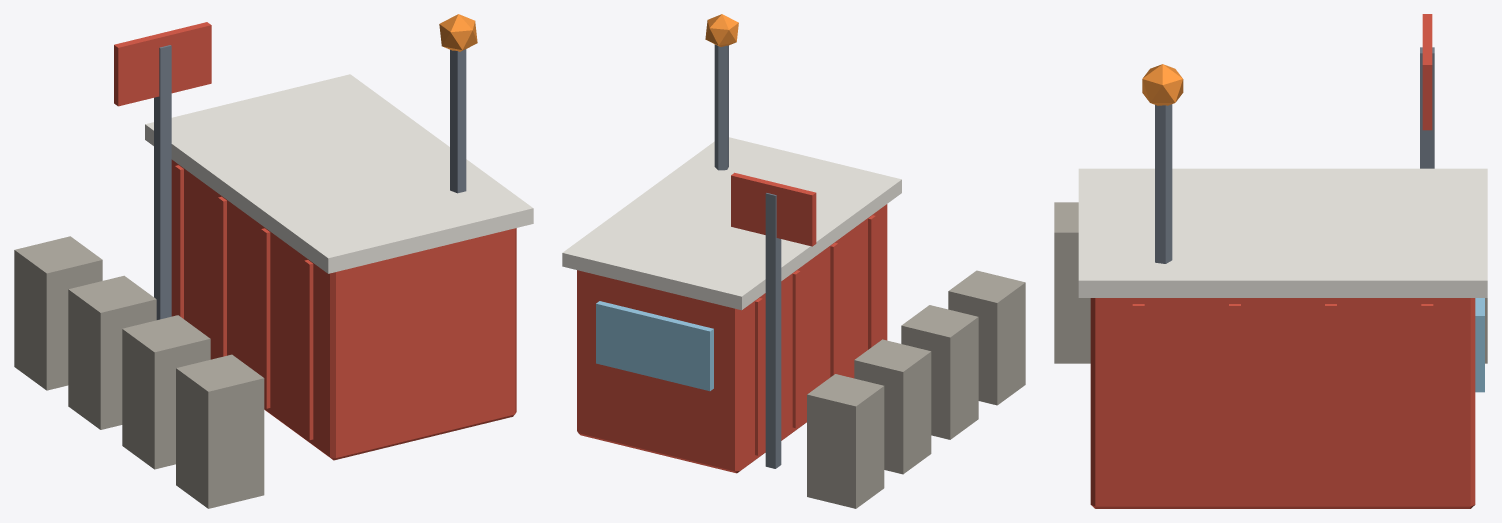
Rendered from checkpoint_port.glb.
3 renders of one model, left to right at view 1: azimuth 30°, elevation 25°; view 2: azimuth 150°, elevation 25°; view 3: azimuth 270°, elevation 25°, orthographic. The views are drawn at different scales.
Parts seen in each view (by area): view 1: checkpoint_port; view 2: checkpoint_port; view 3: checkpoint_port.
Boxes of the visible parts, x1,y1,x2,y2 form: checkpoint_port: [14, 14, 533, 508]; checkpoint_port: [562, 14, 1025, 508]; checkpoint_port: [1054, 14, 1487, 508].
Size of the model in its own units: 1.8 by 1.98 by 1.8.
Materials: 1 (1 with a texture image).
